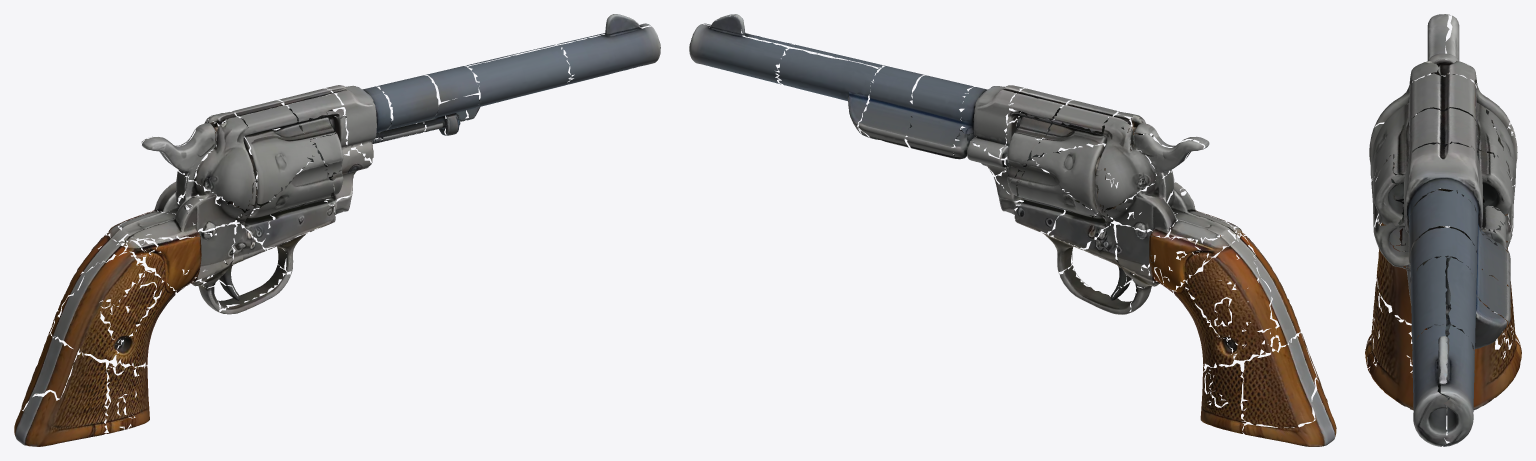
File: pyton.glb
3 renders of one model, left to right at view 1: azimuth 30°, elevation 25°; view 2: azimuth 150°, elevation 25°; view 3: azimuth 270°, elevation 25°, orthographic. The views are drawn at different scales.
Visible parts, largest first — view 1: Object_4, Object_5; view 2: Object_4, Object_5; view 3: Object_4, Object_5.
Boxes of the visible parts, left/top/right/bottom form: Object_4: left=50, top=14, right=660, bottom=433; Object_5: left=14, top=115, right=260, bottom=446; Object_4: left=689, top=14, right=1280, bottom=433; Object_5: left=1090, top=126, right=1336, bottom=446; Object_4: left=1365, top=14, right=1521, bottom=446; Object_5: left=1365, top=123, right=1521, bottom=373.
Size of the model in its own units: 1 by 0.43 by 0.1431.
1 material, 1 textured.
